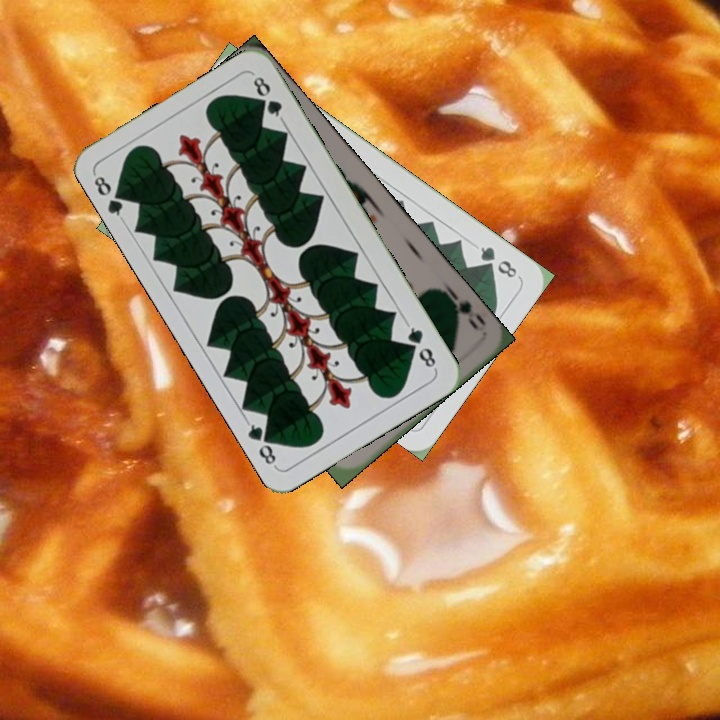G8: (89, 170, 131, 224), (402, 319, 439, 372), (476, 242, 520, 281)
GO: (438, 283, 489, 334)
